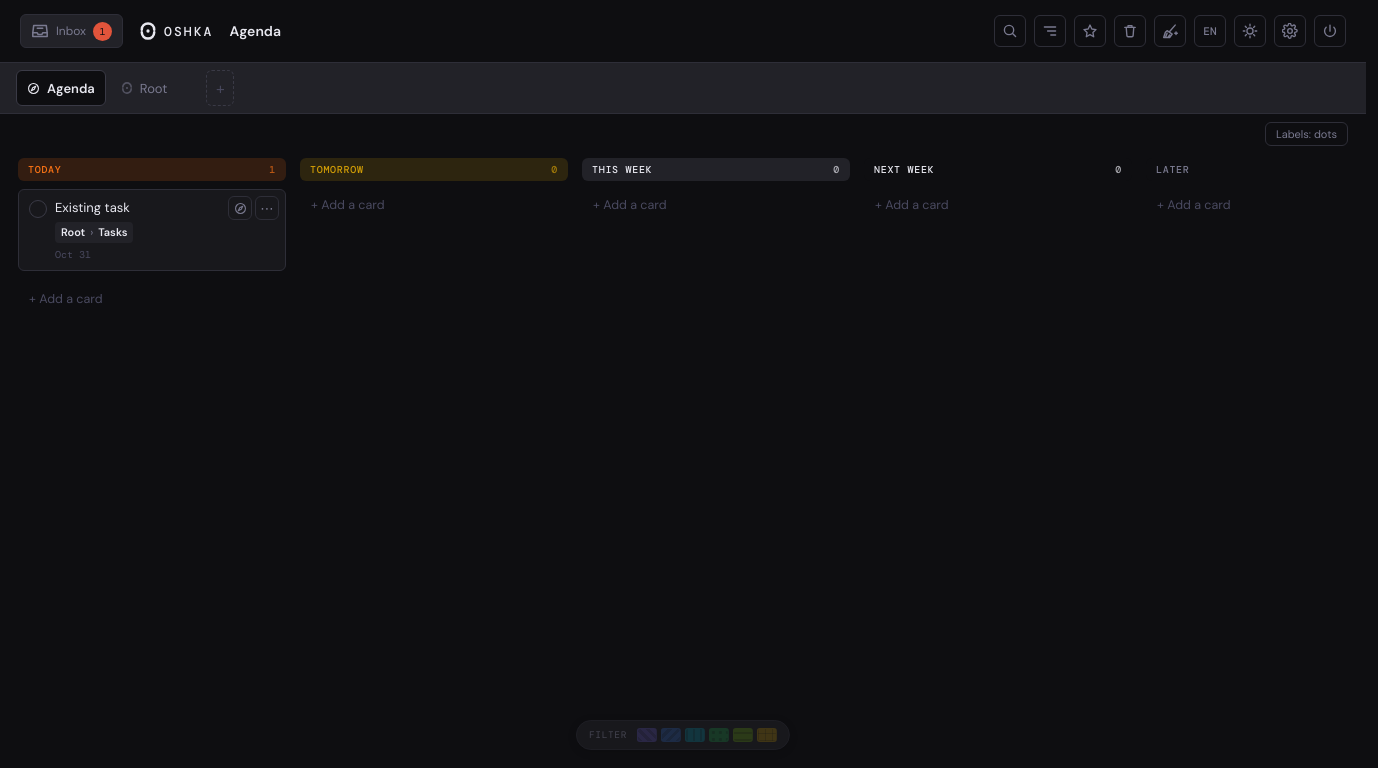
Test: connects Inbox and Agenda even when scheduled tasks exist: true
Click the button with class "inbox-trigger" at (72, 31), box [20,14,123,48]
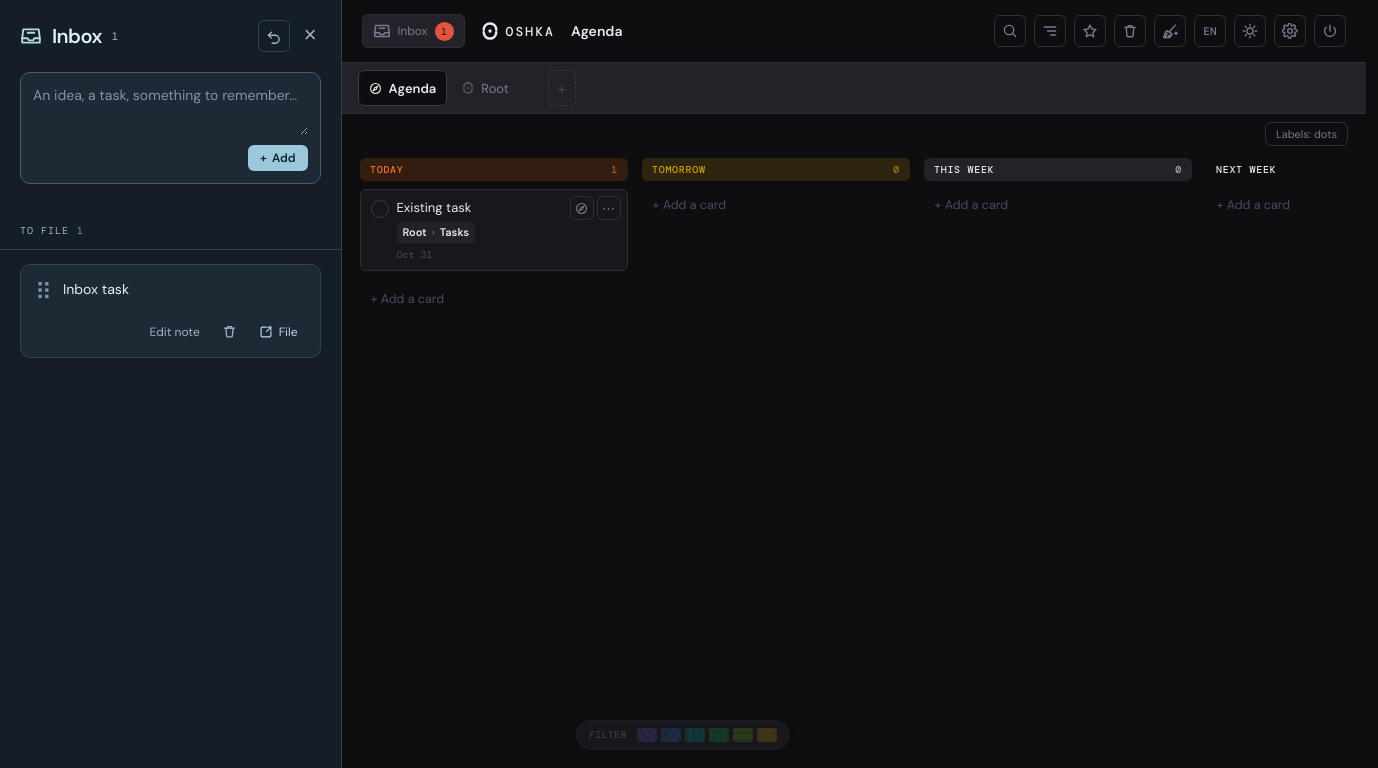
Now the text "⠿" is shown, box [35,279,52,305]
